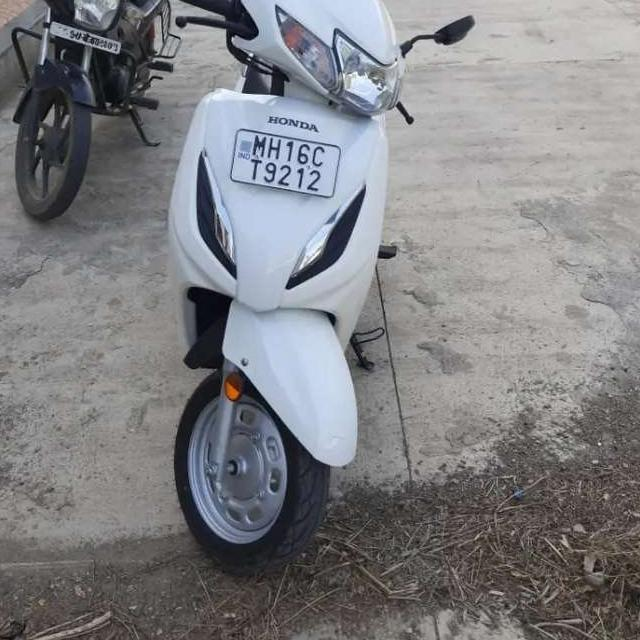Indian_Number_Plate: (230, 128, 341, 196), (50, 21, 121, 54)
